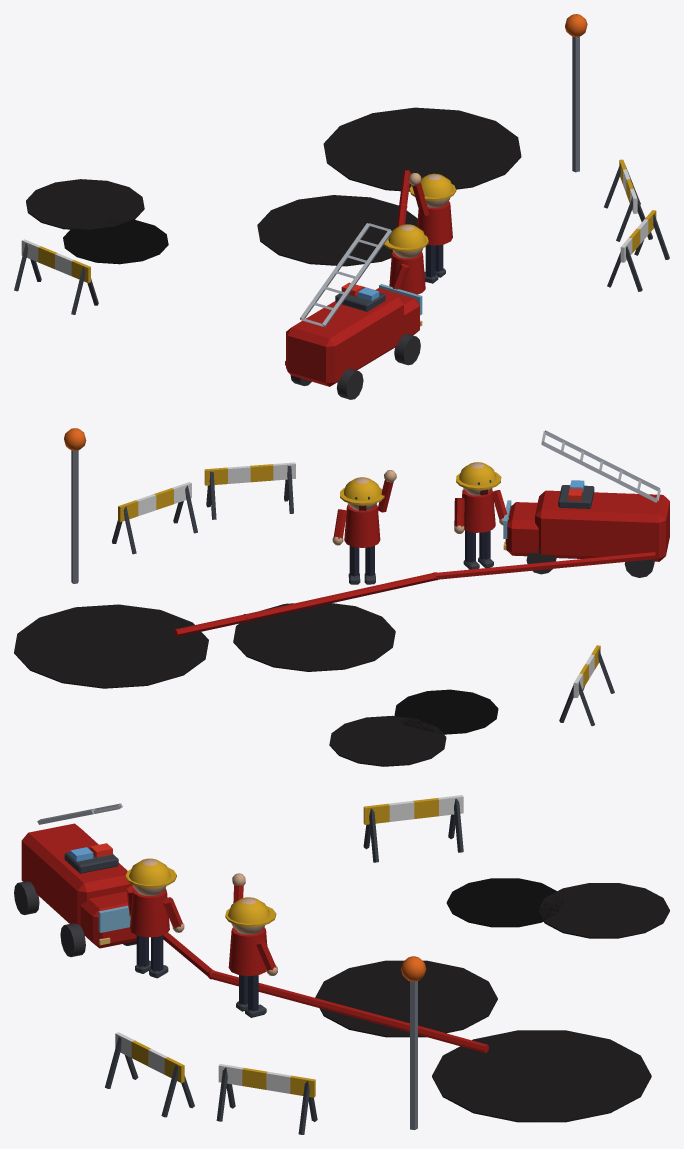
The model's file is accident.fbx.
The picture shows the model from 3 angles, top to bottom: view 1: azimuth 30°, elevation 25°; view 2: azimuth 150°, elevation 25°; view 3: azimuth 270°, elevation 25°; orthographic projection. The views are drawn at different scales.
Visible parts, largest first — view 1: accident; view 2: accident; view 3: accident.
Boxes of the visible parts, x1,y1,x2,y2 form: accident: [14, 14, 669, 399]; accident: [14, 428, 669, 766]; accident: [14, 795, 669, 1134].
Size of the model in its own units: 1.94 by 0.5176 by 1.79.
